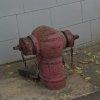a fire hydrant: (18, 28, 77, 88)
